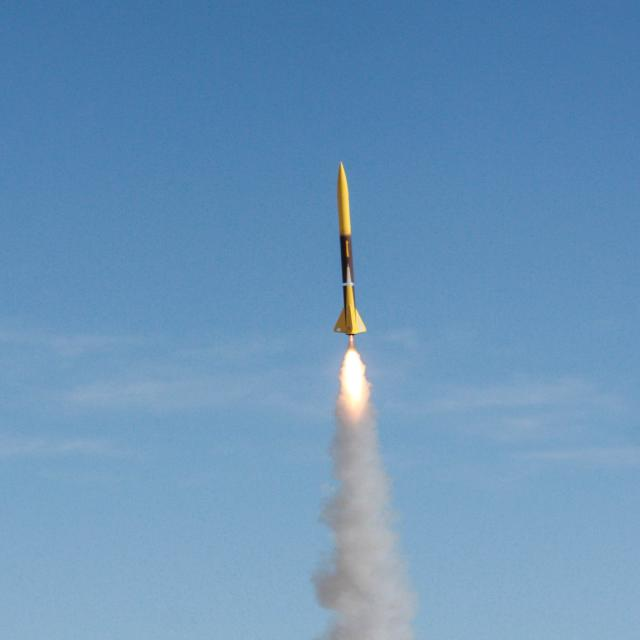Rocket: (332, 160, 369, 338)
